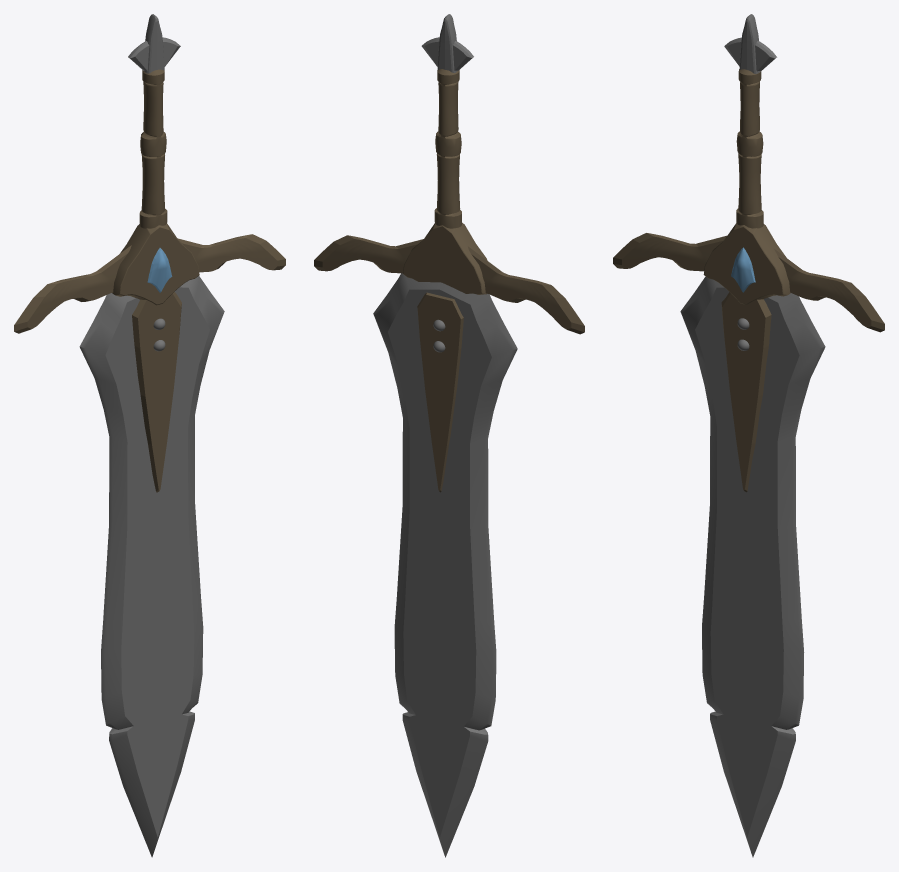
File: Maya_Sword.fbx
The picture shows the model from 3 angles, left to right: view 1: azimuth 30°, elevation 25°; view 2: azimuth 150°, elevation 25°; view 3: azimuth 330°, elevation 25°; orthographic projection.
Parts seen in each view (by area): view 1: pPlane2, pPlane9, pPlane5, pPlane4, pCylinder1, pPlane6, pPlane7, pPlane8; view 2: pPlane2, pPlane9, pPlane5, pPlane4, pCylinder1, pPlane6, pPlane7; view 3: pPlane2, pPlane9, pPlane5, pPlane4, pCylinder1, pPlane6, pPlane7, pPlane8.
Part boxes in pixels (x1=…): pPlane2: x1=79, y1=276, x2=224, y2=857; pPlane9: x1=132, y1=292, x2=181, y2=492; pPlane5: x1=14, y1=234, x2=285, y2=333; pPlane4: x1=112, y1=223, x2=199, y2=305; pCylinder1: x1=139, y1=69, x2=167, y2=228; pPlane6: x1=144, y1=14, x2=164, y2=73; pPlane7: x1=128, y1=37, x2=180, y2=70; pPlane8: x1=147, y1=248, x2=172, y2=292; pPlane2: x1=373, y1=273, x2=517, y2=857; pPlane9: x1=417, y1=292, x2=463, y2=492; pPlane5: x1=314, y1=235, x2=584, y2=334; pPlane4: x1=403, y1=222, x2=487, y2=294; pCylinder1: x1=434, y1=69, x2=461, y2=228; pPlane6: x1=437, y1=14, x2=458, y2=72; pPlane7: x1=421, y1=37, x2=473, y2=70; pPlane2: x1=680, y1=276, x2=825, y2=857; pPlane9: x1=721, y1=292, x2=771, y2=492; pPlane5: x1=613, y1=233, x2=884, y2=332; pPlane4: x1=703, y1=223, x2=790, y2=304; pCylinder1: x1=736, y1=69, x2=763, y2=228; pPlane6: x1=739, y1=14, x2=760, y2=73; pPlane7: x1=724, y1=37, x2=776, y2=71; pPlane8: x1=731, y1=247, x2=755, y2=292.
Bounding box in the file's own units: 9.4 × 27.88 × 1.31.
